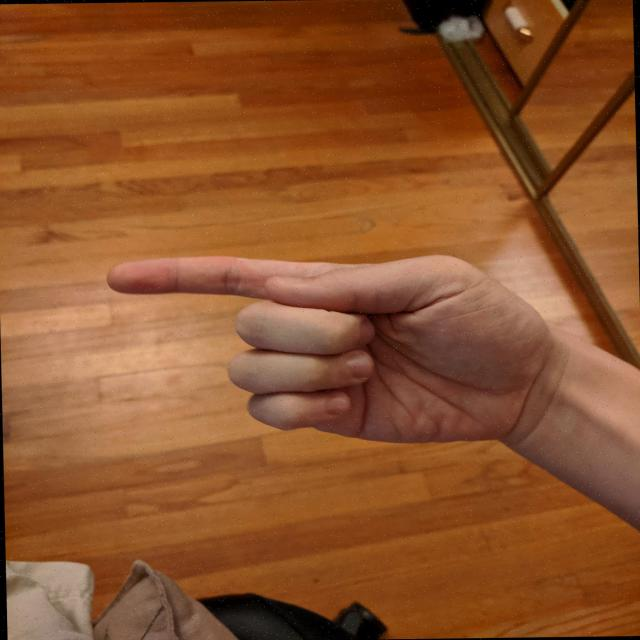G: (99, 246, 556, 453)
